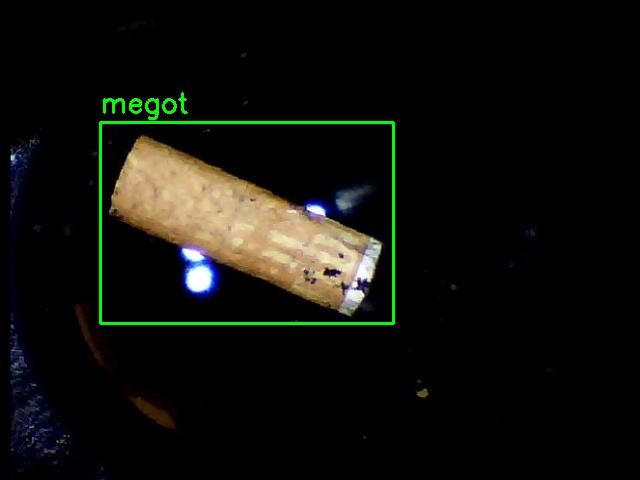megot: (100, 122, 393, 323)
